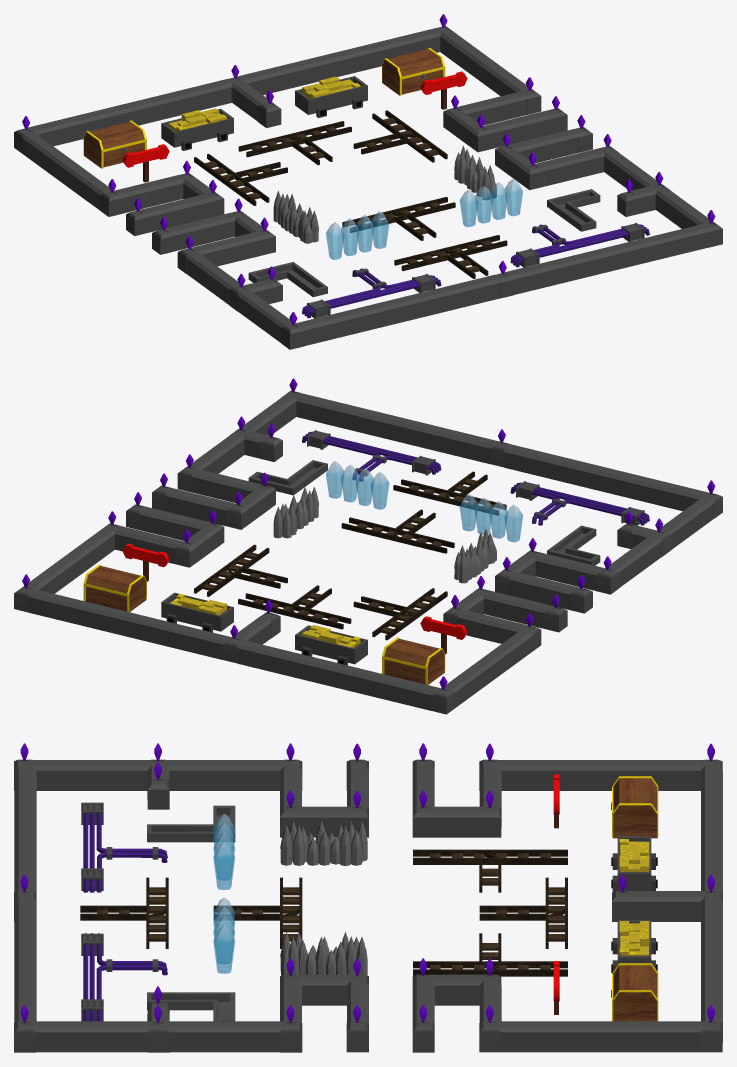
File: Pacman_map3.fbx
The picture shows the model from 3 angles, top to bottom: view 1: azimuth 30°, elevation 25°; view 2: azimuth 150°, elevation 25°; view 3: azimuth 270°, elevation 25°; orthographic projection. The views are drawn at different scales.
Visible parts, largest first — view 1: pCube247 (×2), pCube153 (×2), pCube213 (×2), pCube278 (×2), pCube283 (×2), pCube268 (×2), pCube224 (×2), pCube235 (×2), pCube216 (×2), pCube230 (×2), pCube241 (×2), pCube240 (×2) (+10 smaller); view 2: pCube153 (×2), pCube247 (×2), pCube213 (×2), pCube283 (×2), pCube278 (×2), pCube268 (×2), pCube230 (×2), pCube235 (×2), pCube224 (×2), pCube216 (×2), pCube240 (×2), pCube241 (×2) (+12 smaller); view 3: pCube213 (×2), pCube241 (×2), pCube240 (×2), pCube247 (×2), pCube283 (×2), pCube268 (×2), pCube153 (×2), pCube278 (×2), pCube186 (×2), pCube221 (×2), pCube229 (×2), pCube304 (+24 smaller).
Part boxes in pixels (x1=…): pCube247 (×2): x1=295, y1=224, x2=708, y2=345; pCube153 (×2): x1=28, y1=28, x2=441, y2=146; pCube213 (×2): x1=22, y1=30, x2=528, y2=210; pCube278 (×2): x1=161, y1=76, x2=367, y2=150; pCube283 (×2): x1=83, y1=47, x2=445, y2=168; pCube268 (×2): x1=194, y1=110, x2=447, y2=205; pCube224 (×2): x1=140, y1=110, x2=553, y2=232; pCube235 (×2): x1=192, y1=148, x2=605, y2=266; pCube216 (×2): x1=114, y1=91, x2=527, y2=213; pCube230 (×2): x1=166, y1=129, x2=579, y2=250; pCube241 (×2): x1=238, y1=187, x2=709, y2=342; pCube240 (×2): x1=186, y1=149, x2=657, y2=304; pCube153 (×2): x1=27, y1=588, x2=440, y2=710; pCube247 (×2): x1=295, y1=393, x2=708, y2=511; pCube213 (×2): x1=27, y1=527, x2=532, y2=707; pCube283 (×2): x1=83, y1=564, x2=445, y2=684; pCube278 (×2): x1=161, y1=592, x2=367, y2=665; pCube268 (×2): x1=194, y1=544, x2=447, y2=640; pCube230 (×2): x1=165, y1=488, x2=578, y2=609; pCube235 (×2): x1=191, y1=468, x2=604, y2=590; pCube224 (×2): x1=140, y1=506, x2=553, y2=628; pCube216 (×2): x1=114, y1=525, x2=527, y2=643; pCube240 (×2): x1=191, y1=432, x2=661, y2=587; pCube241 (×2): x1=243, y1=394, x2=713, y2=549; pCube213 (×2): x1=497, y1=760, x2=704, y2=1052; pCube241 (×2): x1=31, y1=760, x2=151, y2=1052; pCube240 (×2): x1=165, y1=760, x2=283, y2=1052; pCube247 (×2): x1=14, y1=765, x2=36, y2=1022; pCube283 (×2): x1=611, y1=776, x2=658, y2=1021; pCube268 (×2): x1=413, y1=849, x2=567, y2=976; pCube153 (×2): x1=701, y1=765, x2=722, y2=1042; pCube278 (×2): x1=611, y1=836, x2=657, y2=972; pCube186 (×2): x1=147, y1=805, x2=235, y2=1021; pCube221 (×2): x1=430, y1=806, x2=483, y2=1005; pCube229 (×2): x1=297, y1=806, x2=351, y2=1005; pCube304: x1=80, y1=877, x2=168, y2=948.
Bounding box in the file's own units: 28.98 × 2.6 × 32.03.
